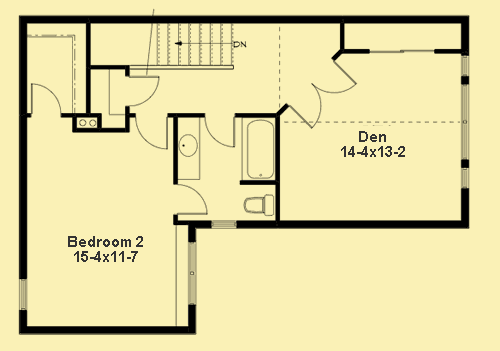door: (290, 60, 357, 129), (132, 113, 170, 151), (201, 113, 238, 148), (29, 81, 63, 118), (173, 185, 209, 217), (126, 76, 161, 106)
large_sink: (235, 191, 275, 217)
small_sink: (176, 118, 203, 182)
stairs: (148, 23, 247, 72)
window: (460, 55, 473, 189), (185, 239, 199, 306), (18, 277, 28, 312), (209, 220, 237, 231)
